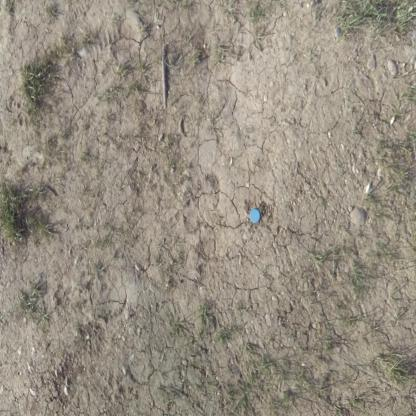plastik: (251, 210, 262, 224)
